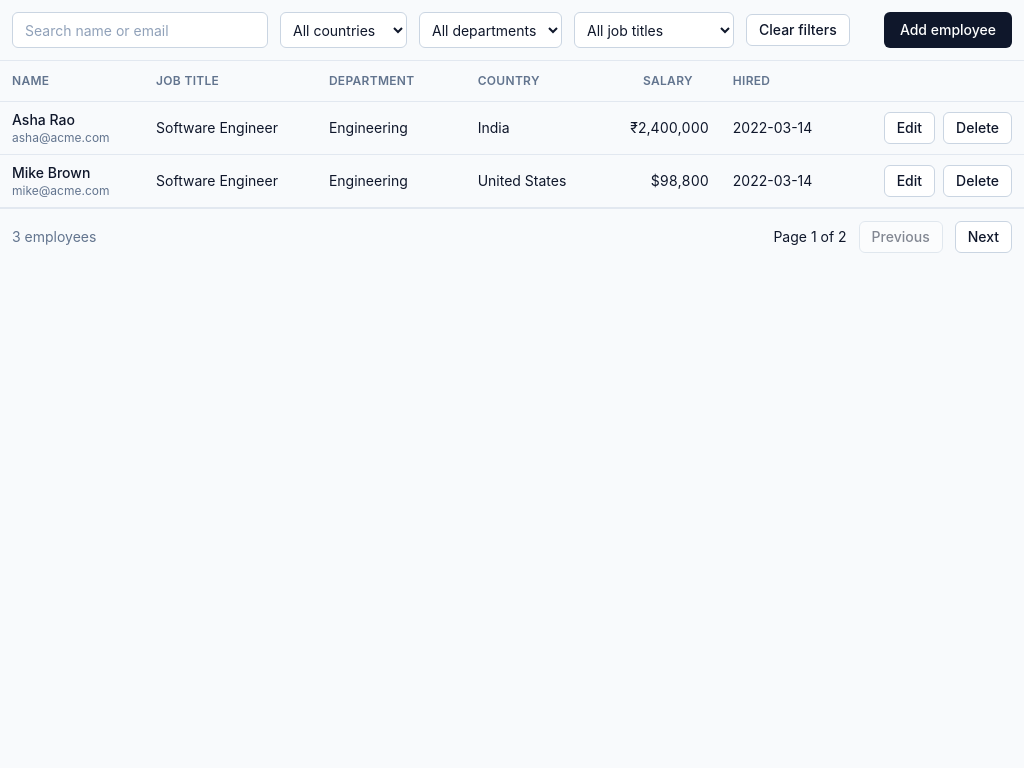
Scenario: adding, editing and deleting employees › editing › saves the change for that employee and confirms it
Expected: the text "Asha Rao" is shown, [12,110,75,128]
Click the button with aria-label "Edit Asha Rao" at coordinates (909, 128), box [884,112,935,144]
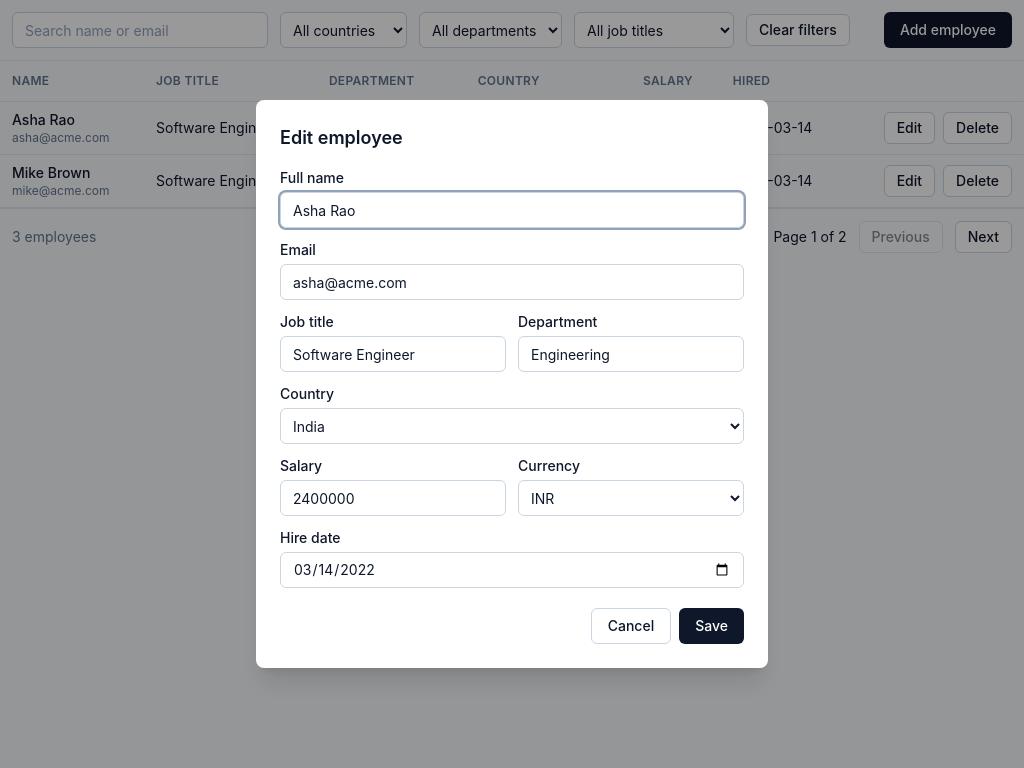
Replace the text in the number field labelled "Salary" with "3000000" at coordinates (393, 498), box [280,480,506,516]
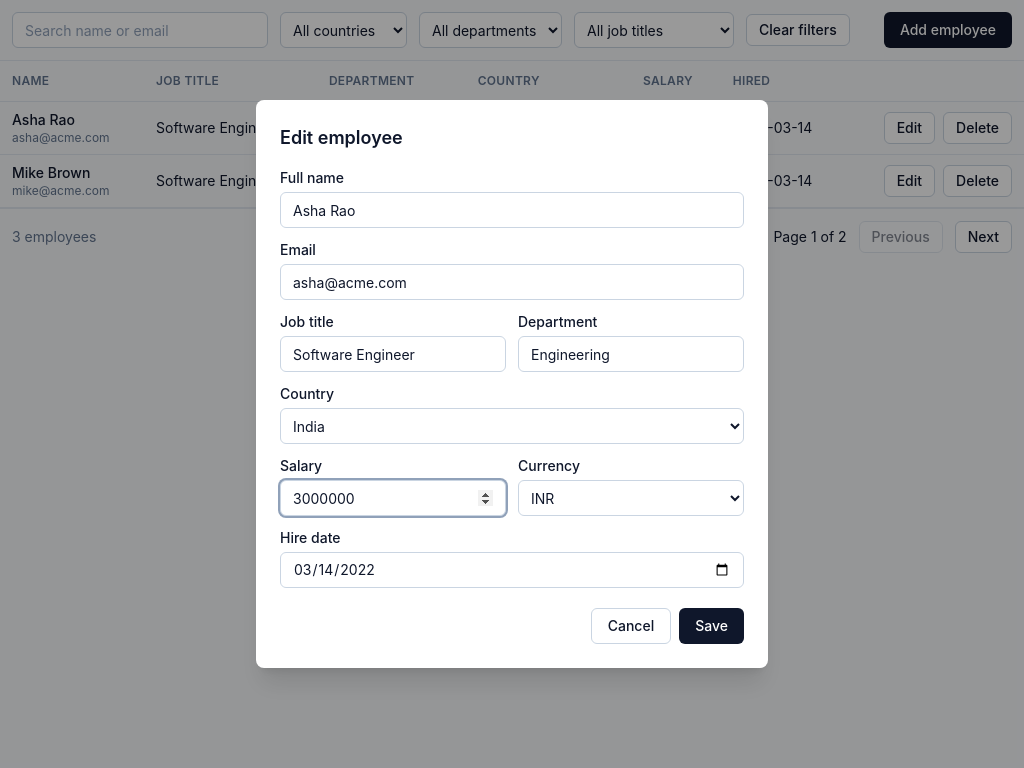
Click the button "Save" at coordinates (712, 626), box [679,608,744,644]
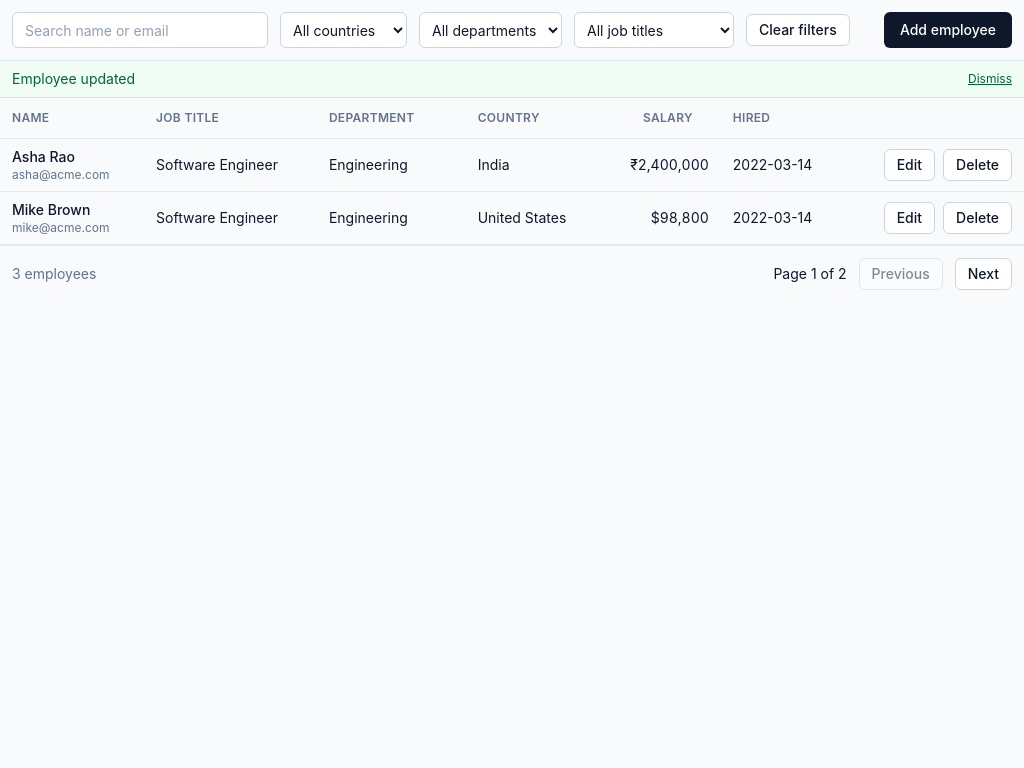
Expected: the message shows "Employee updated", [12,70,135,87]
